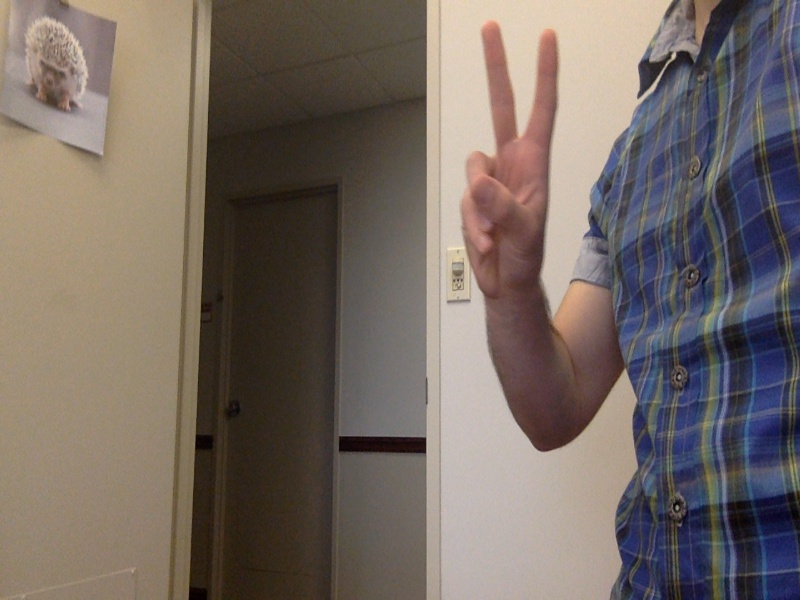2-hand: (460, 21, 567, 304)
